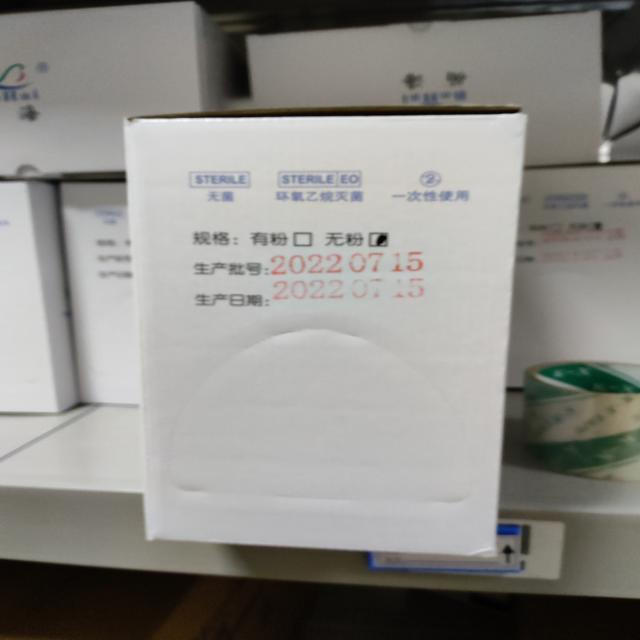box: (129, 106, 503, 554), (247, 8, 602, 171), (0, 0, 238, 184), (500, 156, 640, 399), (50, 177, 152, 409), (0, 179, 82, 417)
